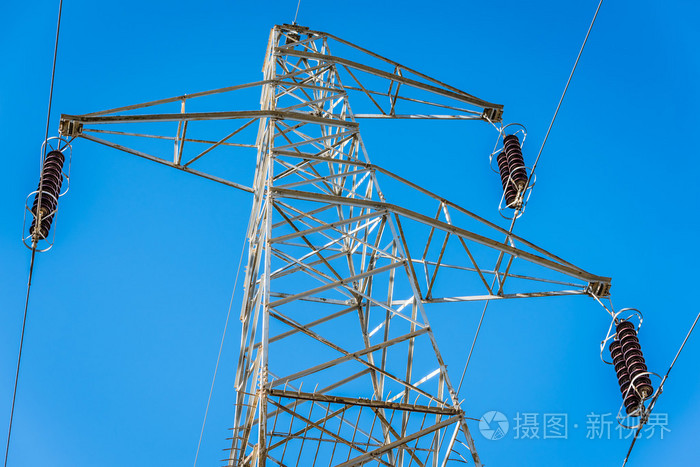insulator: (608, 322, 652, 415), (29, 150, 70, 240), (498, 135, 528, 209)
